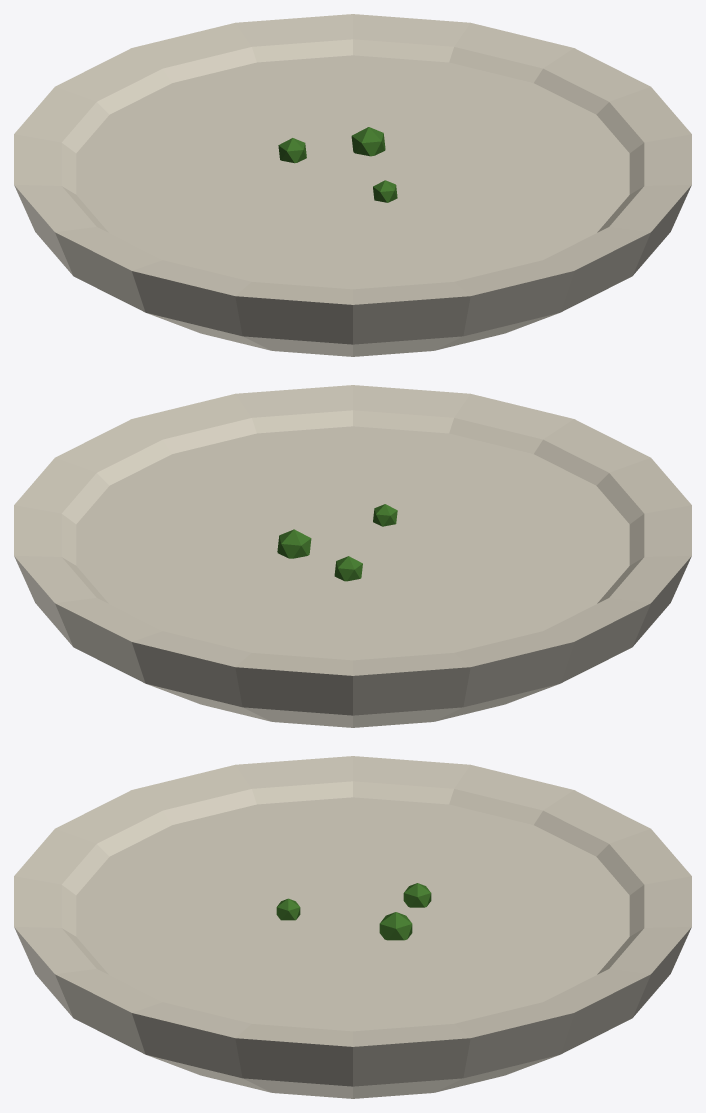
Rendered from Cream_Soup.glb.
3 renders of one model, top to bottom at view 1: azimuth 30°, elevation 25°; view 2: azimuth 150°, elevation 25°; view 3: azimuth 270°, elevation 25°, orthographic.
Parts seen in each view (by area): view 1: _I_CreamSoup; view 2: _I_CreamSoup; view 3: _I_CreamSoup.
Part boxes in pixels (x1=…): _I_CreamSoup: x1=14, y1=14, x2=691, y2=356; _I_CreamSoup: x1=14, y1=385, x2=691, y2=727; _I_CreamSoup: x1=14, y1=756, x2=691, y2=1098.
Size of the model in its own units: 0.64 by 0.128 by 0.6303.
